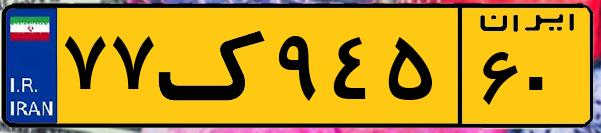0: (525, 38, 570, 115)
4: (330, 28, 385, 110)
5: (385, 28, 445, 110)
6: (475, 38, 525, 113)
7: (57, 26, 110, 100), (110, 28, 158, 98)
9: (270, 28, 330, 110)
ک: (158, 12, 270, 120)
